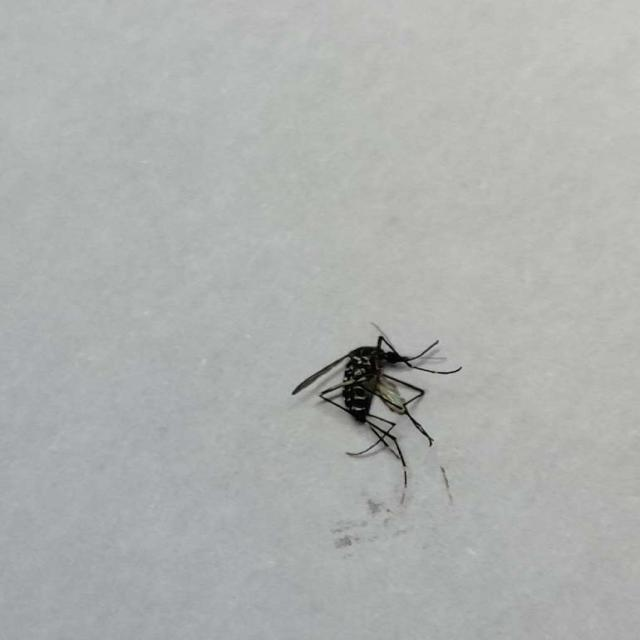albopictus: (283, 312, 463, 512)
